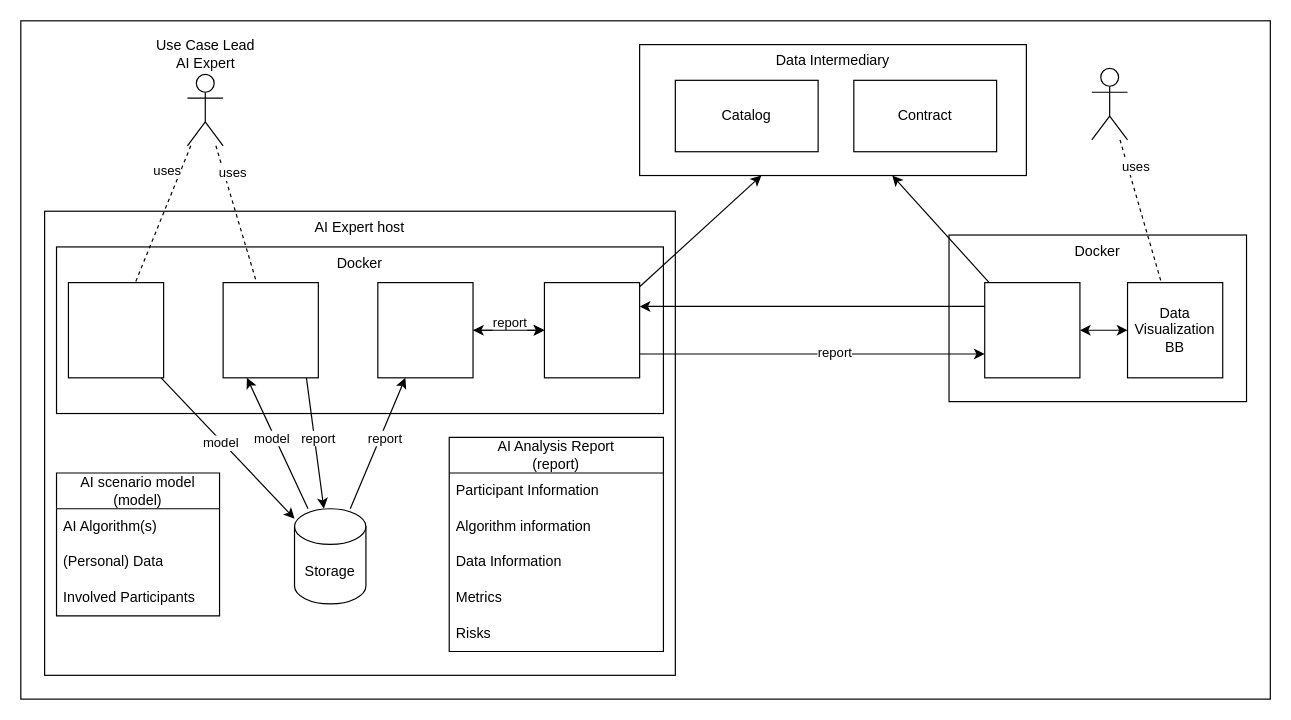
Some shapes in this 1291 by 720 pixel diagram are drawn without their labels. Each missing label, with the centre of its shape:
"CARiSMA Analyzer" belongs at (270,329).
"CARiSMA Modeller" belongs at (115,329).
"Consumer PDC" belongs at (1032,329).
"Data Subject" belongs at (1109,103).
"nginx" belongs at (425,329).
"Provider PDC" belongs at (591,329).
